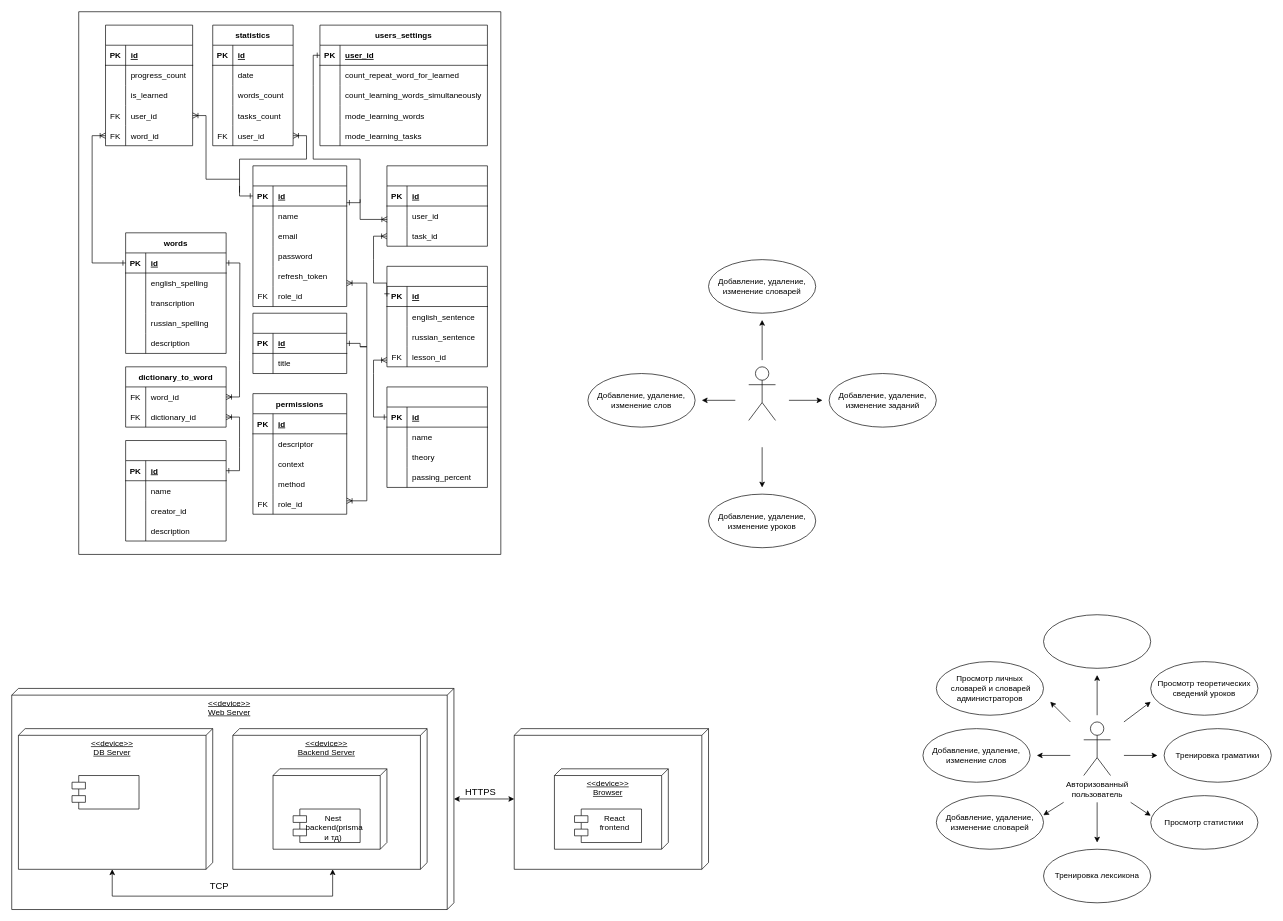
Image size: 1283x921. Some labels were removed from this diagram. The box of each missing label's shape, as (x1, y1, x2, y2) in pixels:
<<device>> UserClient: (514, 728, 709, 869)
dictionaries: (125, 440, 226, 541)
grammar_progresses: (386, 165, 487, 246)
lessons: (386, 386, 487, 487)
lexicon_progresses: (105, 24, 193, 146)
PostgreSQL: (71, 775, 139, 809)
roles: (252, 313, 347, 374)
tasks: (386, 266, 487, 367)
users: (252, 165, 347, 307)
Администратор: (748, 366, 776, 420)
Тренировка лексикона в соревновательном режиме: (1043, 614, 1151, 668)
